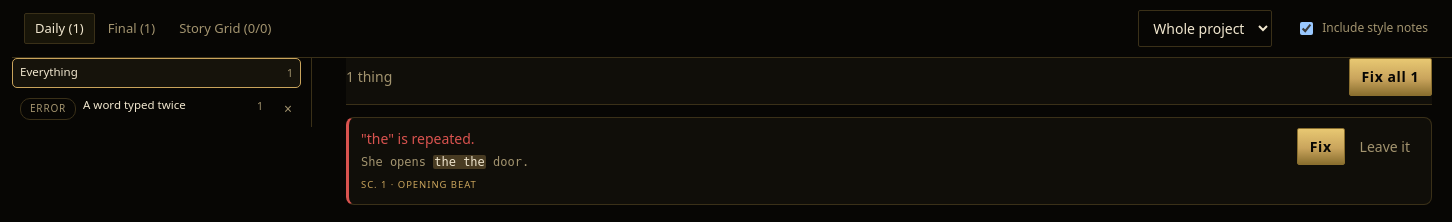
Scenario: daily editor panel › shows a mechanical finding and fixes it in place
Check: the text "\"the\" is repeated." is shown, box [361, 129, 475, 148]
Click the button "Fix": (1321, 147) [1297, 128, 1345, 165]
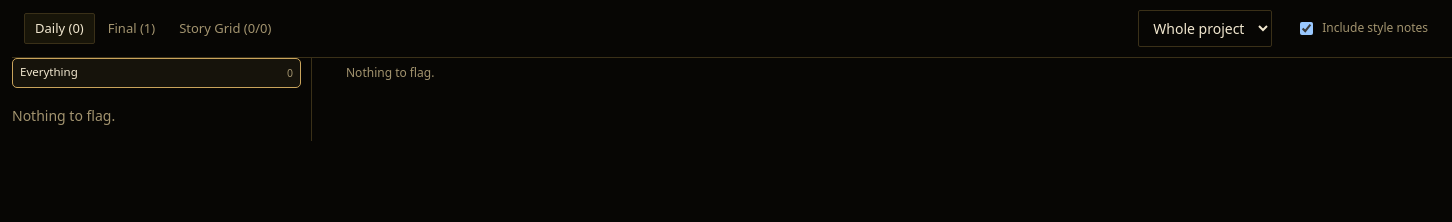
Check: the text "\"the\" is repeated" is gone
